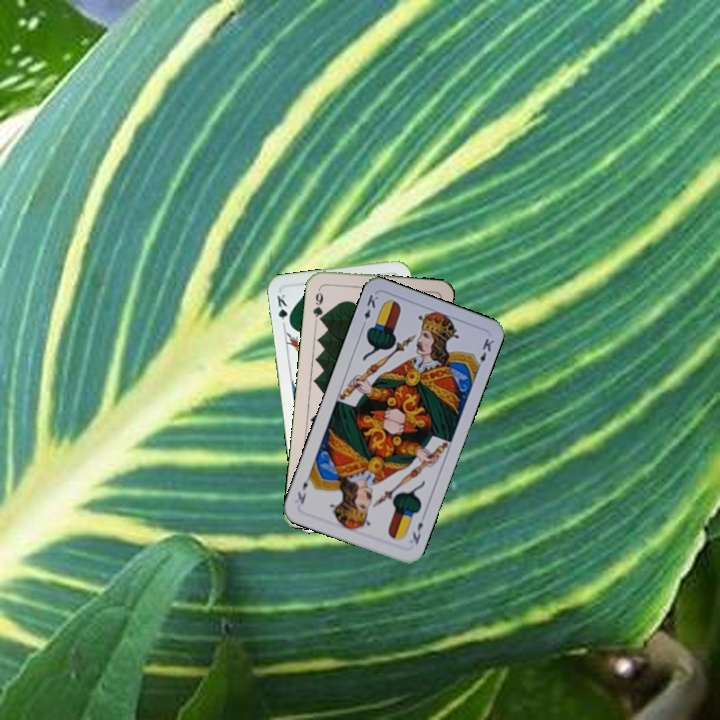EK: (358, 290, 381, 330), (408, 518, 426, 547)
G9: (309, 283, 326, 324)
GK: (273, 290, 293, 330)
